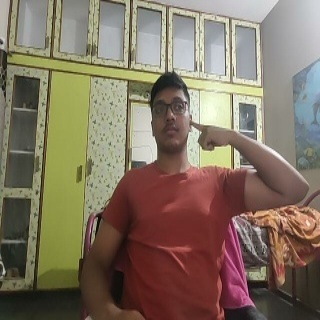Deaf: (190, 118, 238, 154)
Face: (146, 71, 194, 156)
